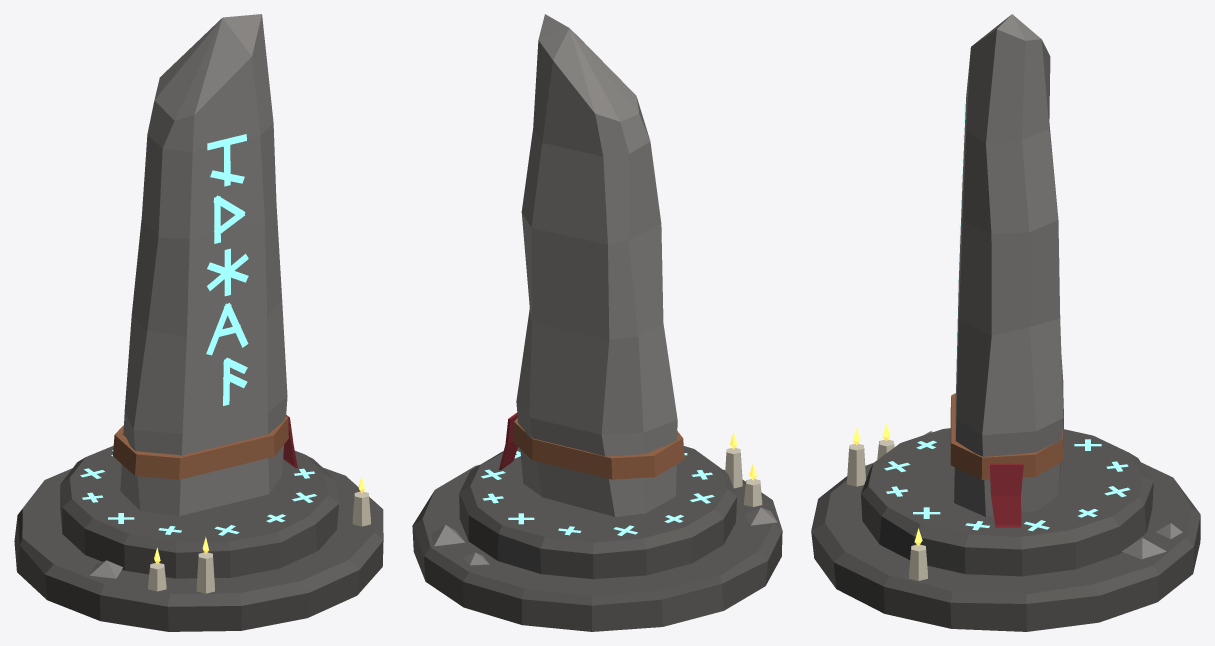
The model's file is waystone.glb.
The picture shows the model from 3 angles, left to right: view 1: azimuth 30°, elevation 25°; view 2: azimuth 150°, elevation 25°; view 3: azimuth 270°, elevation 25°; orthographic projection. The views are drawn at different scales.
Parts seen in each view (by area): view 1: stone, base_step_lower, base_step_upper, iron_band, runes_stone, runes_base, candle_1, candle_3; view 2: stone, base_step_lower, base_step_upper, iron_band, runes_base, candle_1, cloth_banner; view 3: stone, base_step_lower, base_step_upper, iron_band, cloth_banner, runes_base, candle_1, candle_3.
Part boxes in pixels (left/top/right/bottom): stone: left=120, top=14, right=287, bottom=515; base_step_lower: left=14, top=467, right=383, bottom=631; base_step_upper: left=60, top=445, right=338, bottom=578; iron_band: left=113, top=416, right=288, bottom=479; runes_stone: left=206, top=134, right=248, bottom=405; runes_base: left=80, top=450, right=316, bottom=535; candle_1: left=196, top=552, right=214, bottom=593; candle_3: left=352, top=491, right=370, bottom=526; stone: left=516, top=14, right=677, bottom=516; base_step_lower: left=412, top=465, right=782, bottom=631; base_step_upper: left=459, top=446, right=736, bottom=579; iron_band: left=513, top=418, right=684, bottom=479; runes_base: left=481, top=451, right=714, bottom=535; candle_1: left=725, top=448, right=742, bottom=488; cloth_banner: left=498, top=412, right=517, bottom=469; stone: left=954, top=14, right=1063, bottom=516; base_step_lower: left=811, top=462, right=1200, bottom=631; base_step_upper: left=861, top=428, right=1153, bottom=576; iron_band: left=950, top=393, right=1063, bottom=479; cloth_banner: left=990, top=463, right=1023, bottom=527; runes_base: left=884, top=439, right=1130, bottom=531; candle_1: left=847, top=443, right=866, bottom=486; candle_3: left=909, top=544, right=927, bottom=580.
Size of what is drawn, in the model's own units: 1.6 by 2.5 by 1.61.
